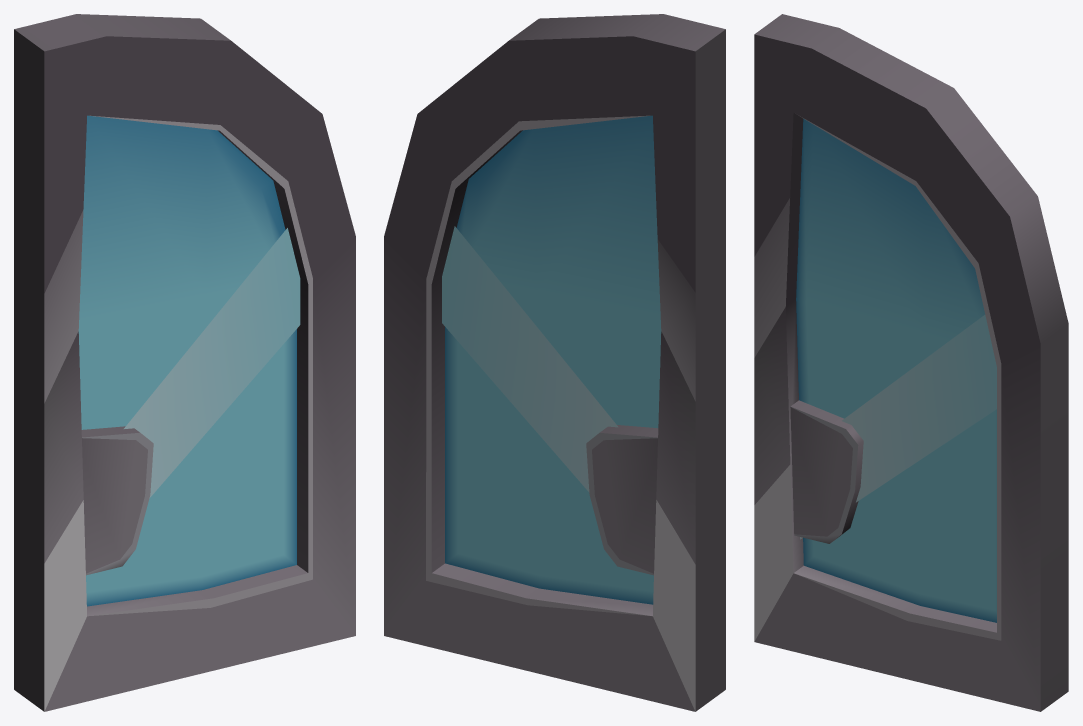
The model's file is ClothingDoor.fbx.
The picture shows the model from 3 angles, left to right: view 1: azimuth 30°, elevation 25°; view 2: azimuth 150°, elevation 25°; view 3: azimuth 330°, elevation 25°; orthographic projection. The views are drawn at different scales.
Visible parts, largest first — view 1: ClothingDoor; view 2: ClothingDoor; view 3: ClothingDoor.
Boxes of the visible parts, x1=… form: ClothingDoor: x1=14, y1=14, x2=355, y2=711; ClothingDoor: x1=384, y1=14, x2=725, y2=711; ClothingDoor: x1=754, y1=14, x2=1068, y2=711.
Size of the model in its own units: 89.49 by 181 by 15.12.
